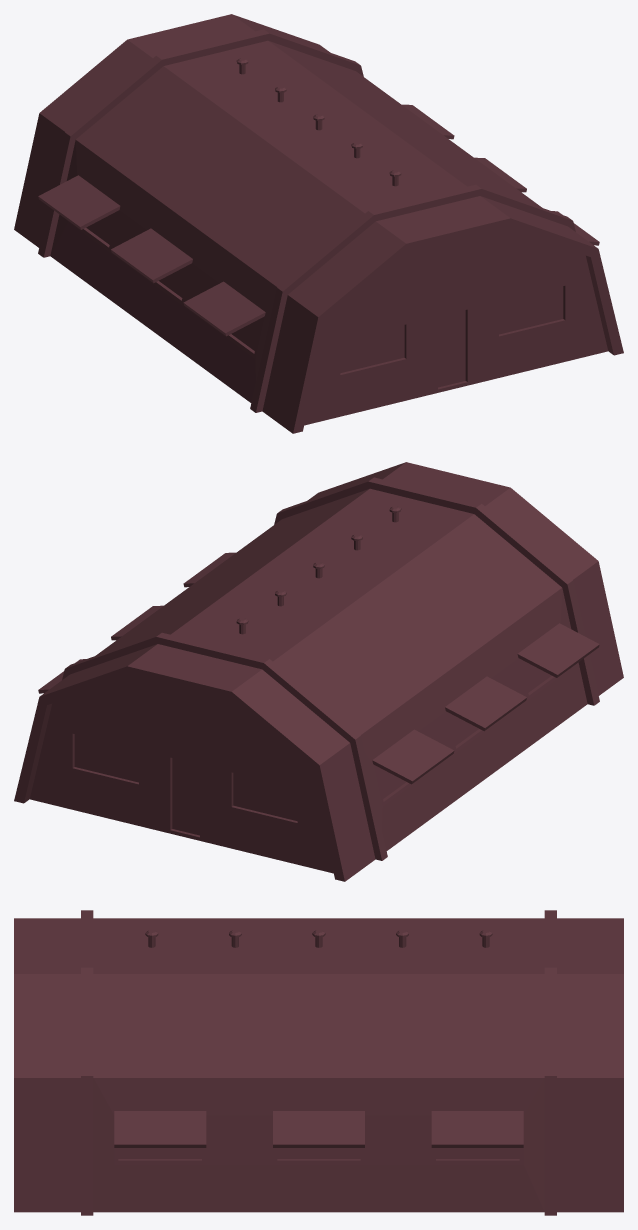
The model's file is military-barracks.fbx.
3 renders of one model, top to bottom at view 1: azimuth 30°, elevation 25°; view 2: azimuth 150°, elevation 25°; view 3: azimuth 270°, elevation 25°, orthographic. The views are drawn at different scales.
Parts seen in each view (by area): view 1: military-barracks; view 2: military-barracks; view 3: military-barracks.
Boxes of the visible parts, <box> form: military-barracks: <box>14,14,623,433</box>; military-barracks: <box>14,462,623,881</box>; military-barracks: <box>14,910,623,1215</box>.
Size of the model in its own units: 11.31 by 5.08 by 14.6.
